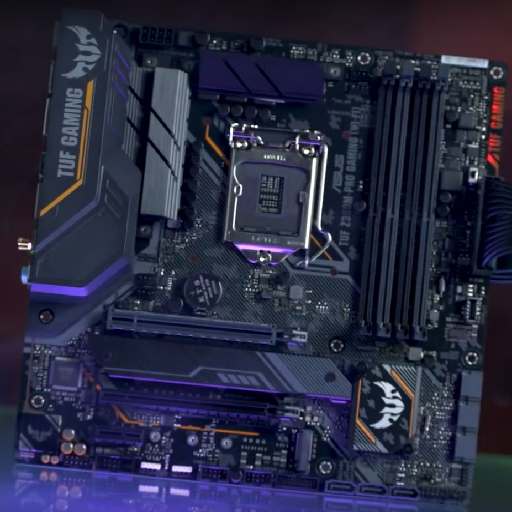CPU: (223, 122, 325, 267)
GPU: (105, 307, 311, 350), (97, 387, 306, 428)
MOTHERBOARD: (13, 14, 504, 502)
RAM: (351, 61, 449, 342)
SSD: (293, 427, 315, 475)
